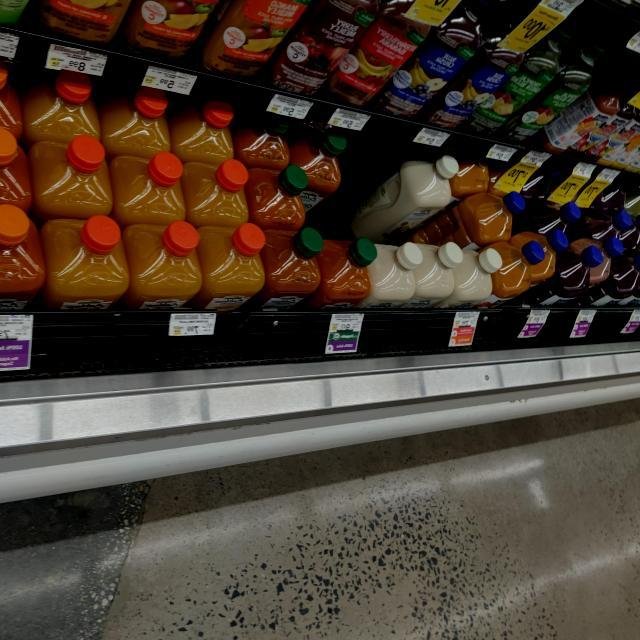Juice: (417, 0, 543, 138), (460, 13, 583, 138), (372, 0, 489, 119), (322, 0, 446, 108), (502, 30, 612, 142), (265, 0, 381, 95), (348, 154, 458, 244), (39, 216, 127, 310), (110, 226, 200, 312), (399, 194, 522, 252), (28, 139, 112, 220), (190, 222, 266, 310), (242, 229, 322, 311), (111, 151, 187, 224), (514, 248, 602, 309), (284, 134, 348, 215), (0, 204, 43, 310), (475, 243, 543, 310), (184, 160, 250, 227), (246, 162, 308, 229), (564, 239, 618, 288)
